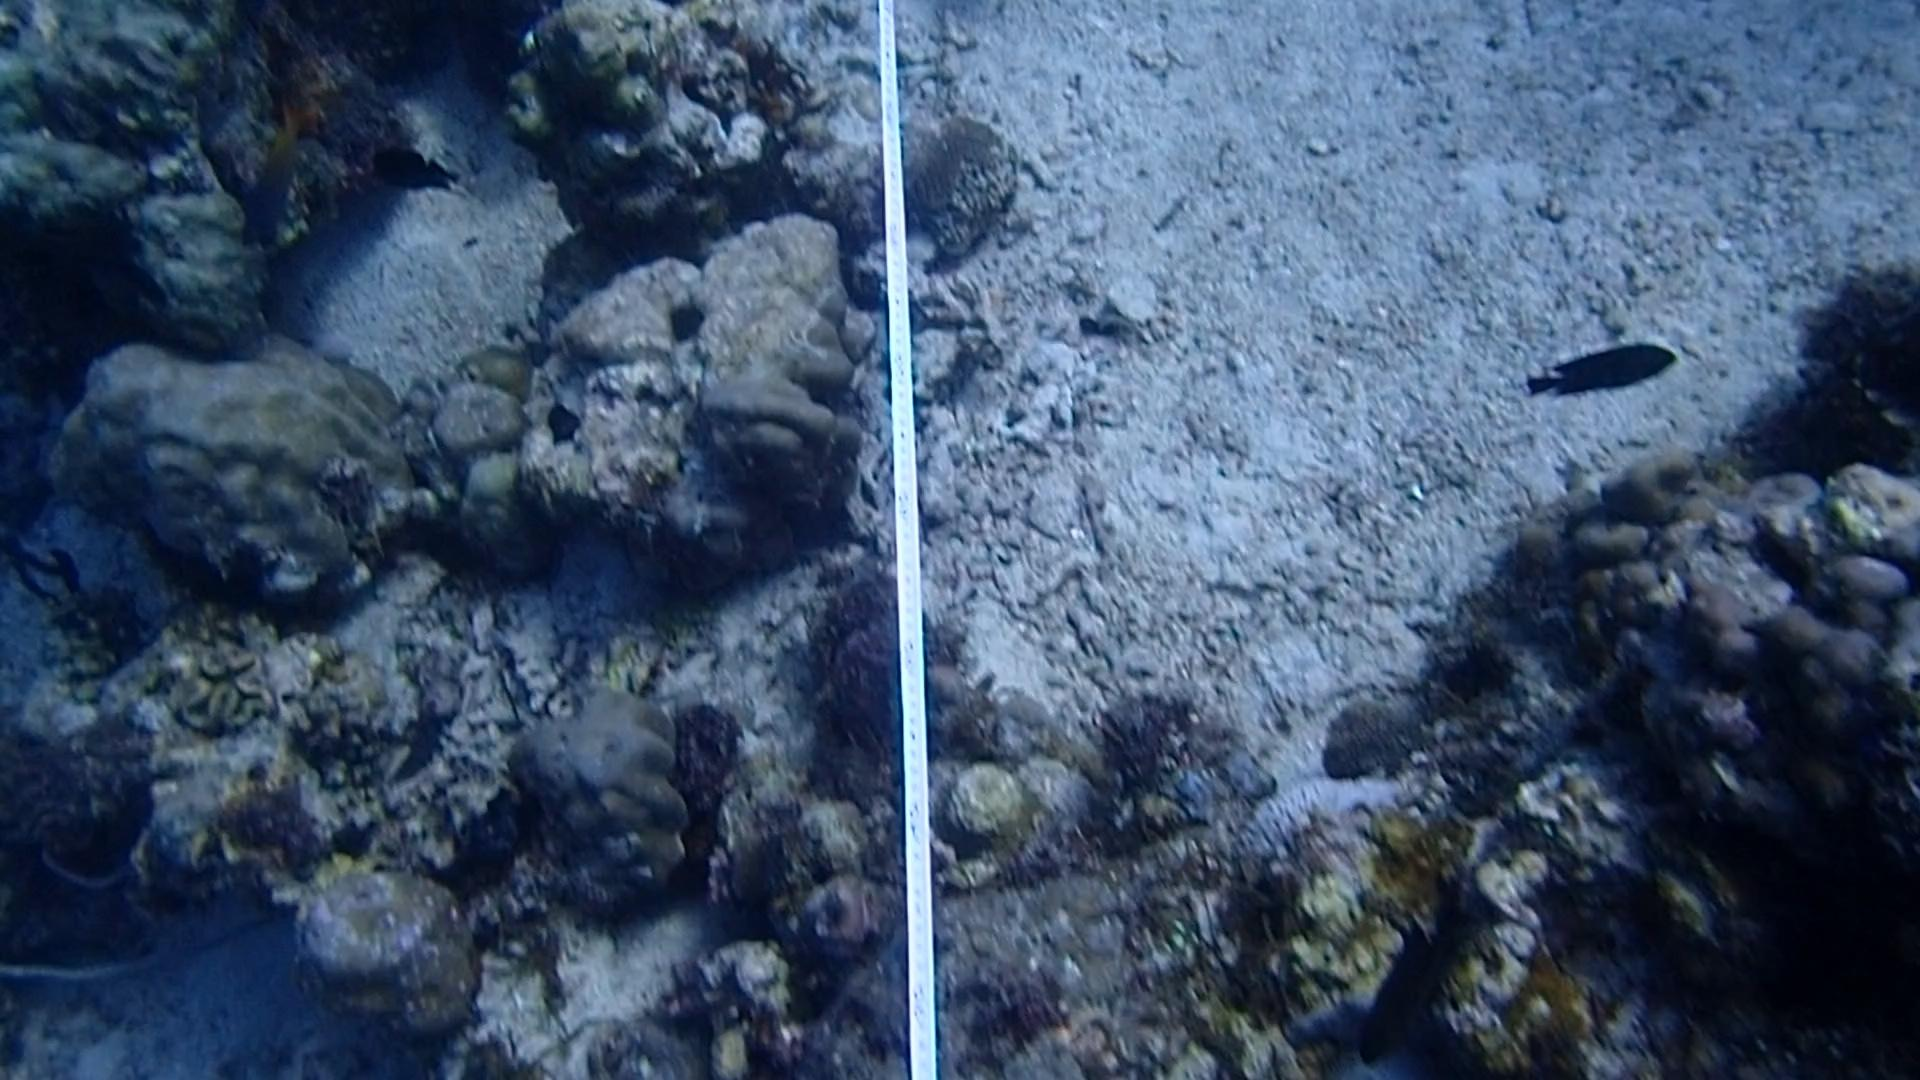Dark Fish: (1350, 919, 1457, 1065), (1522, 324, 1688, 418), (367, 124, 460, 216)
Half Blue - Half Yellow: (222, 95, 316, 261)
